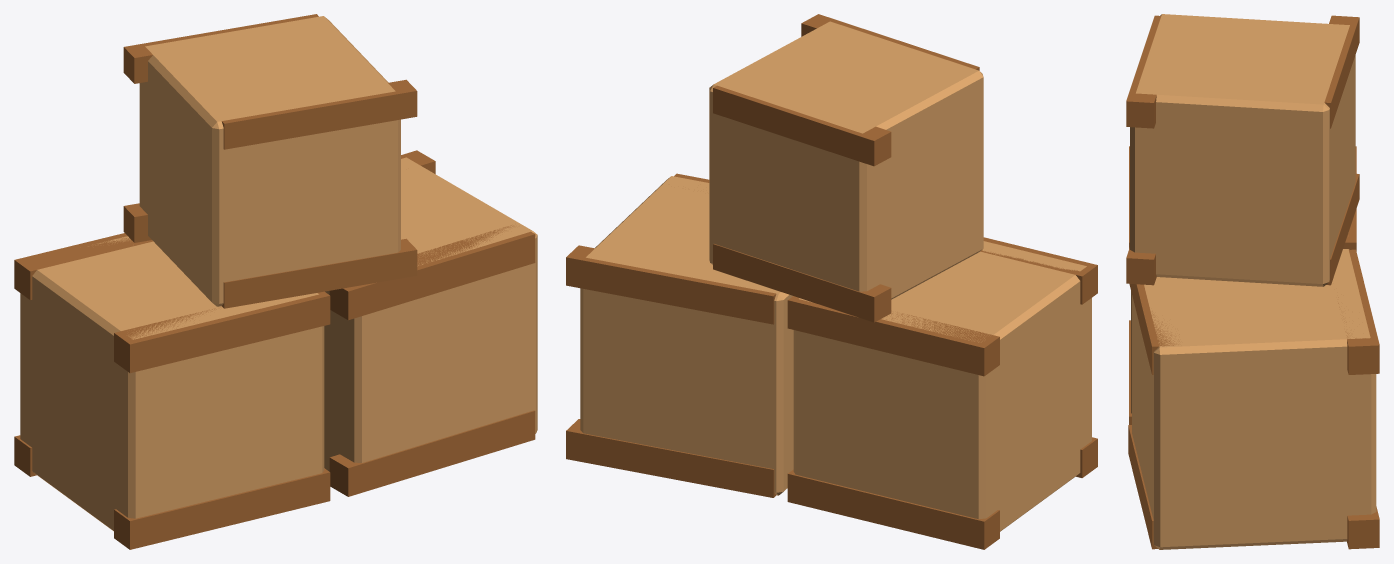
The model's file is CrateStack.fbx.
3 views of the same model, side by side, from view 1: azimuth 30°, elevation 25°; view 2: azimuth 150°, elevation 25°; view 3: azimuth 270°, elevation 25° (orthographic).
Parts seen in each view (by area): view 1: CrateStack; view 2: CrateStack; view 3: CrateStack.
Boxes of the visible parts, x1,y1,x2,y2 form: CrateStack: (14, 14, 537, 549); CrateStack: (566, 14, 1097, 549); CrateStack: (1126, 14, 1379, 549).
Bounding box in the file's own units: 4.31 × 3.8 × 2.27.
1 material, 1 textured.
